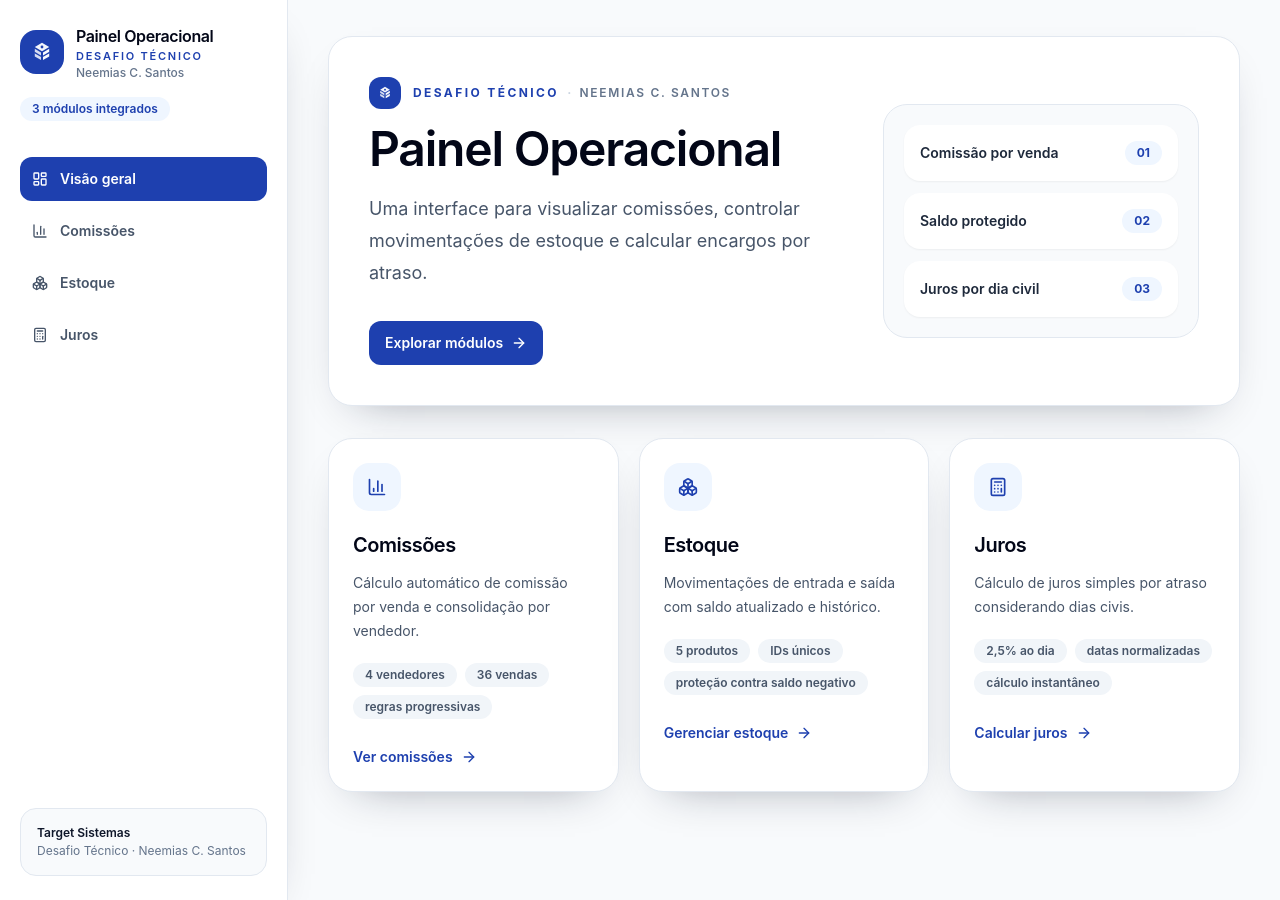
interface web › não cobra juros para vencimento futuro
Click the button "Juros".
click(144, 334)  # box [20,312,267,356]
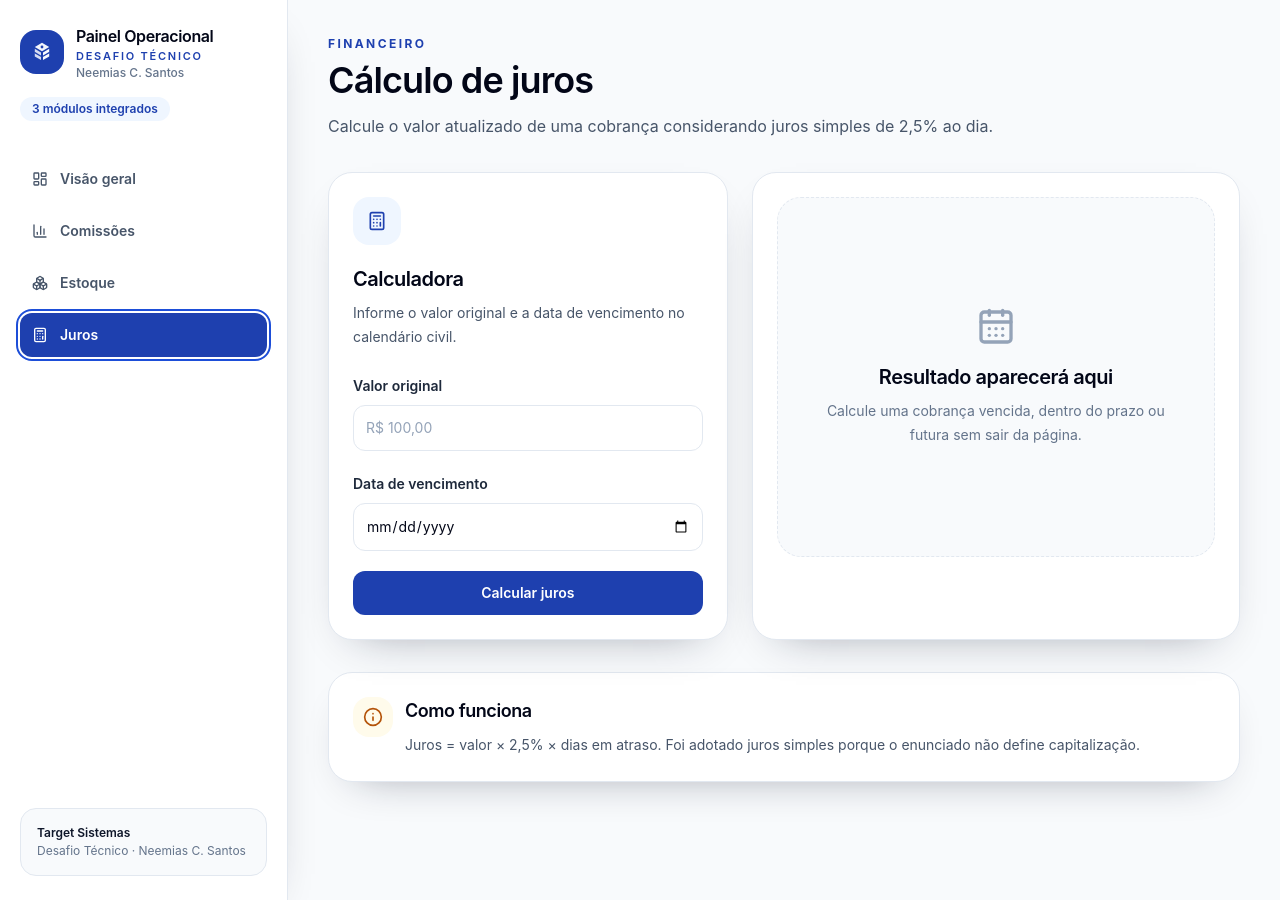
Type "100,00" into the field labelled "Valor original".
click(528, 428); type("100,00")  # box [353,405,703,451]
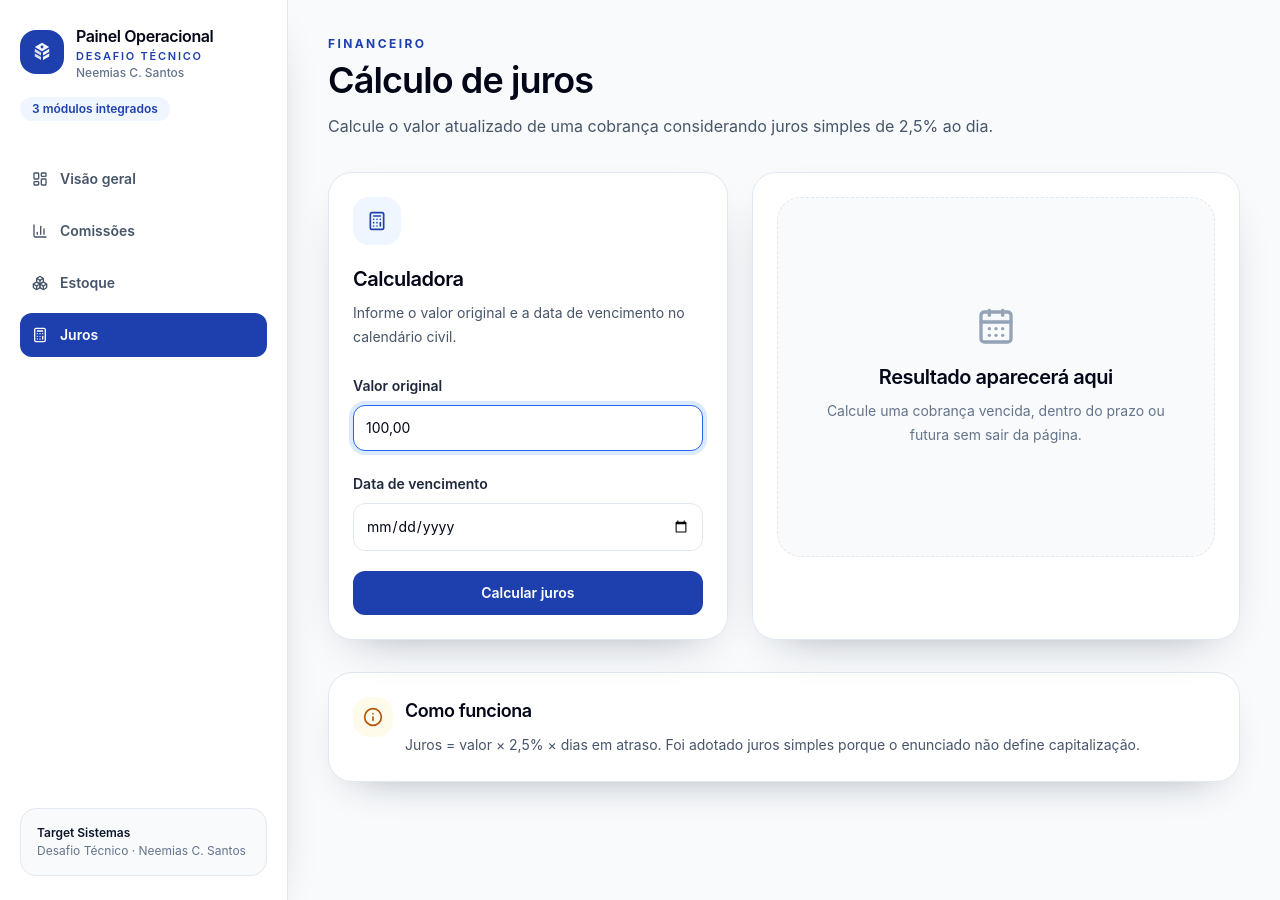
Type "2026-10-06" into the date field labelled "Data de vencimento".
click(528, 527); type("2026-10-06")  # box [353,503,703,551]
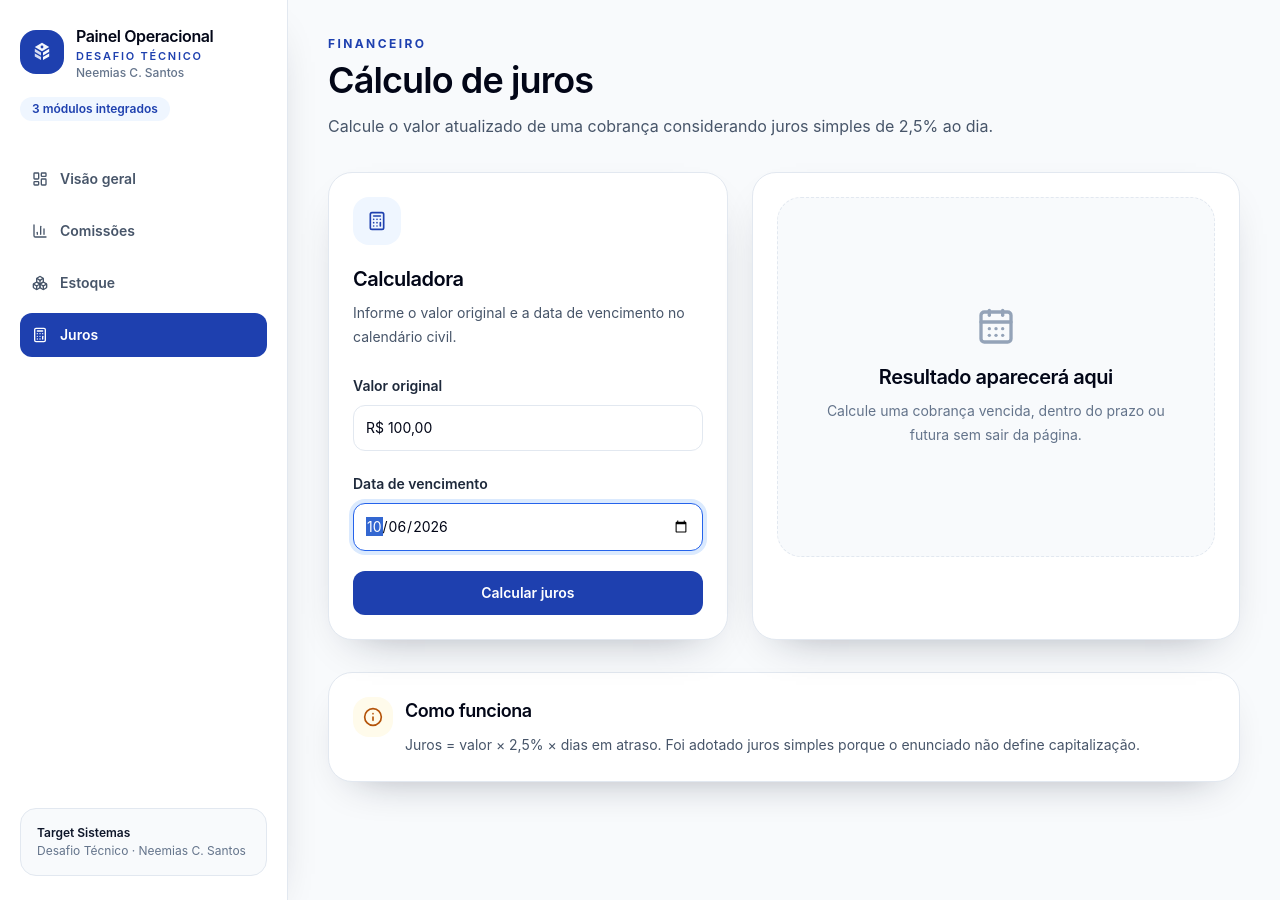
Click the button "Calcular juros".
click(528, 593)  # box [353,571,703,615]
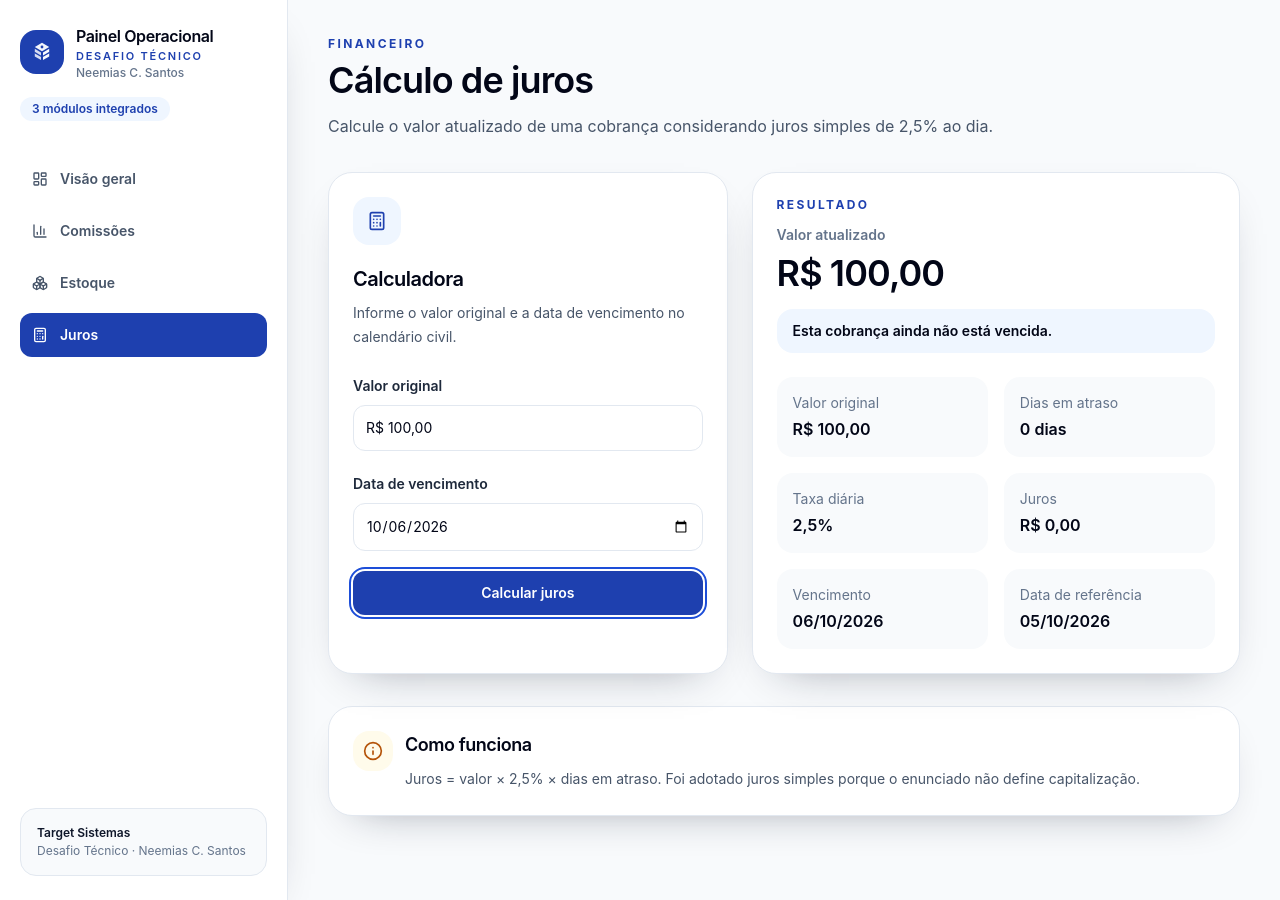
Now the message with test id "interest-result" shows "Esta cobrança ainda não está vencida.", box [793,322,1052,339]
Now the message with test id "interest-result" shows "R$ 0,00", box [1020,515,1081,535]
Now the message with test id "interest-result" shows "R$ 100,00", box [777,251,944,295]
